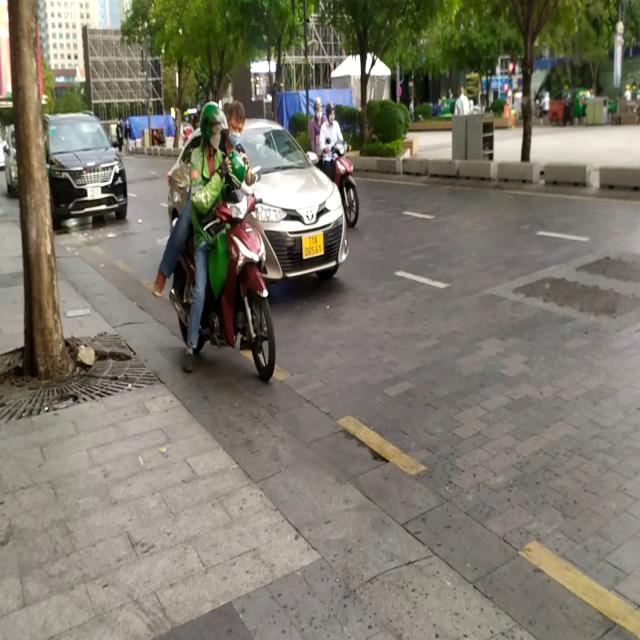bien_vang: (302, 230, 327, 262)
